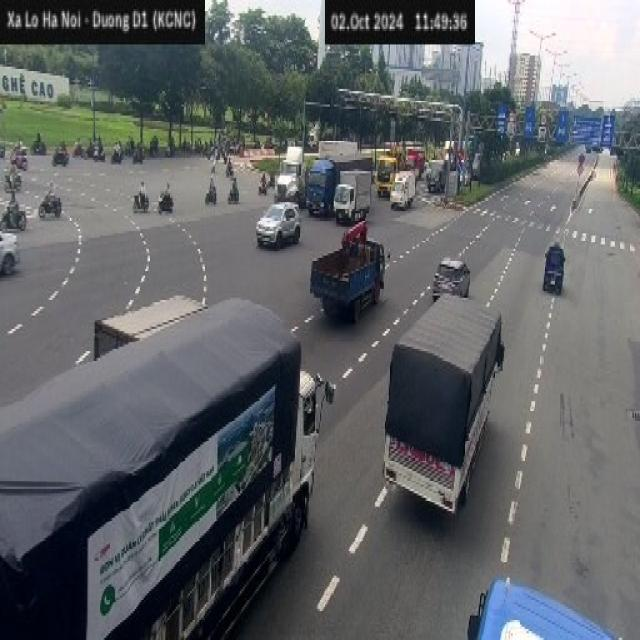car: (255, 200, 300, 249), (543, 242, 565, 294)
truck: (0, 293, 335, 638), (381, 291, 504, 516), (309, 236, 385, 322)
